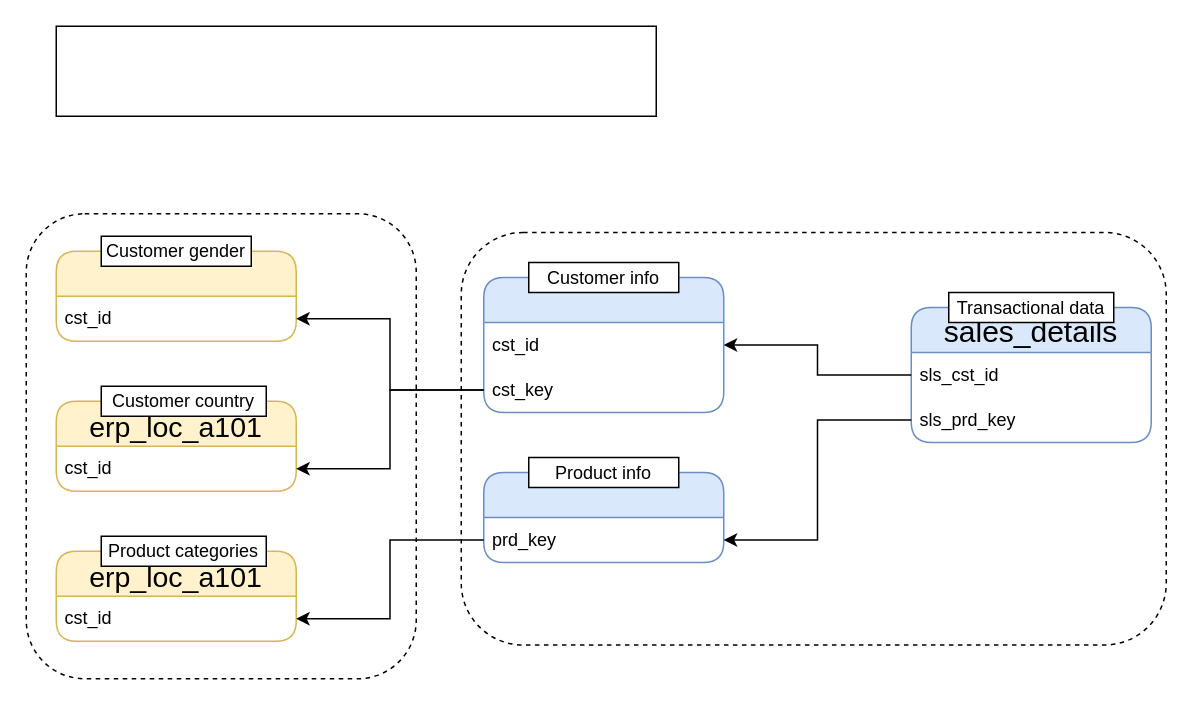
This 1193x705 diagram has some shape labels left out. The shapes that lost their labels are listed below. From the top down, each one's box as (x1, y1, x2, y2) in pixels, then its label:
(55, 25, 656, 116): Integration Model How the data is related !
(55, 250, 296, 341): erp_ cust_az12
(482, 276, 724, 412): crm_cust_info
(482, 471, 724, 562): crm_prd_info
